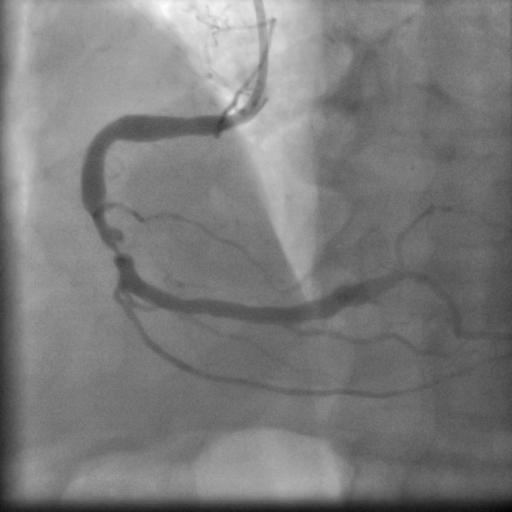Stenosis: (90, 221, 144, 270)
